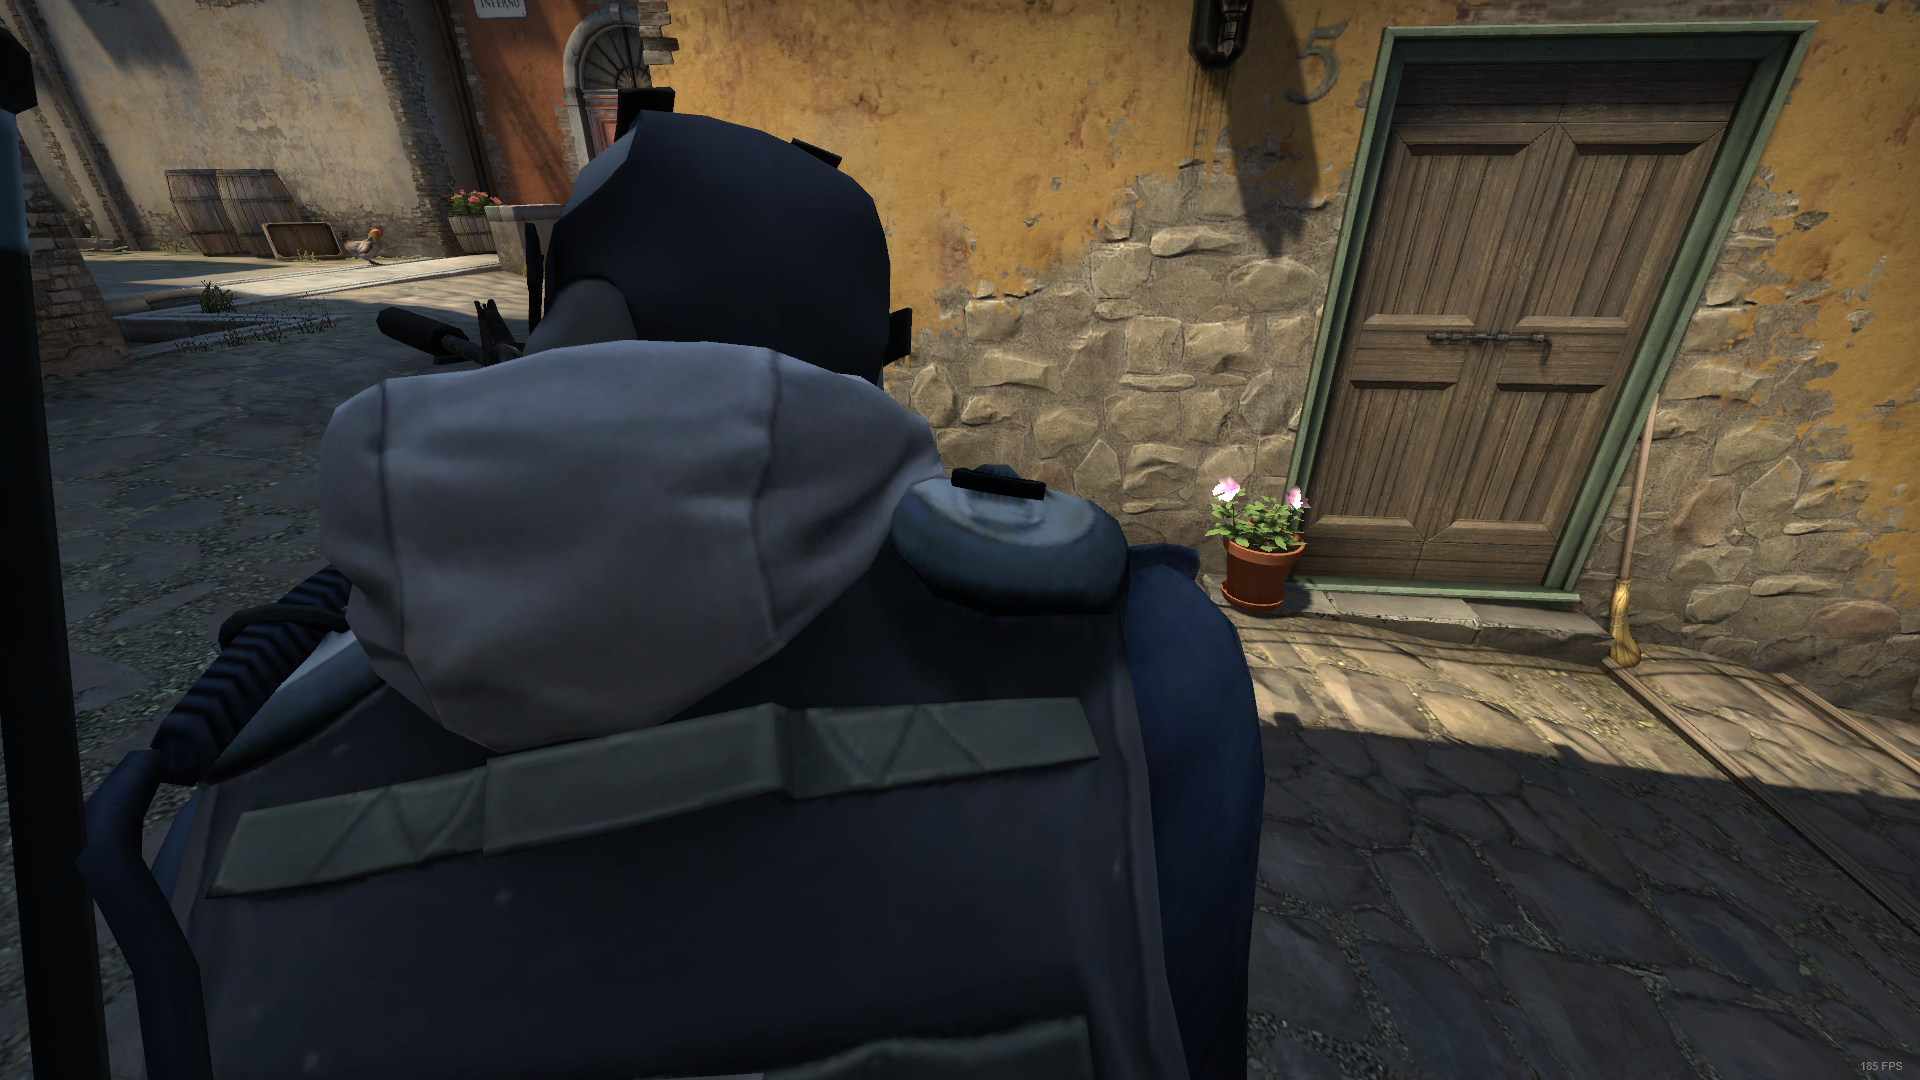ct: (30, 102, 1288, 1080)
